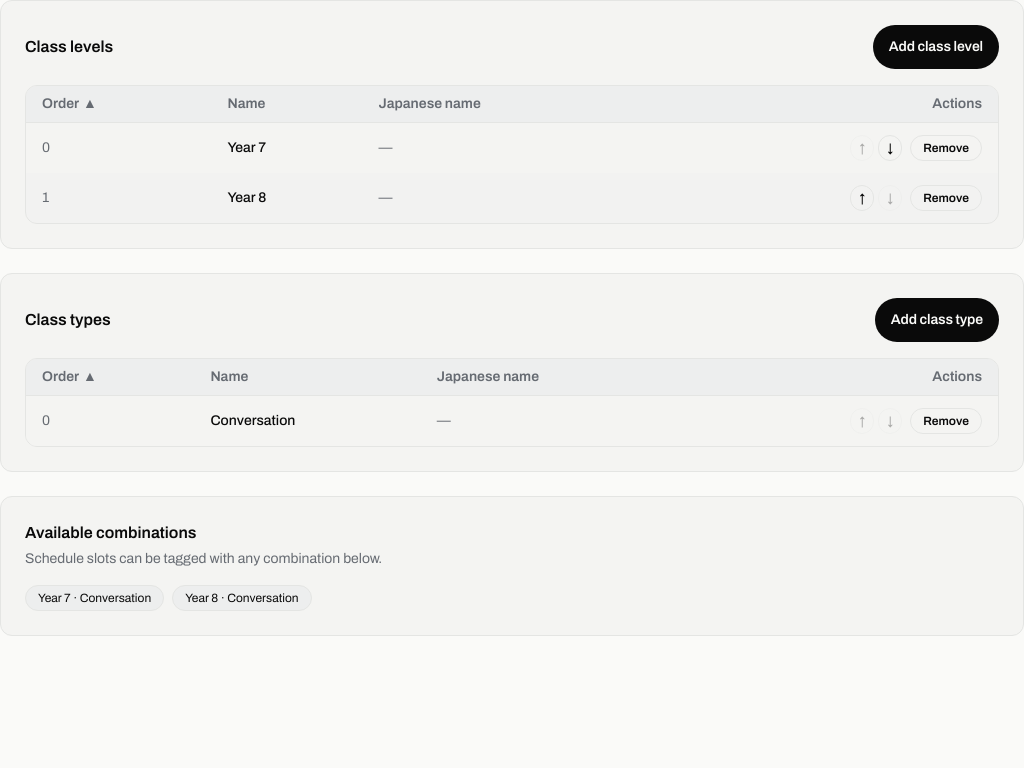
it: SchoolTaxonomyManager › clicking the Name column header toggles sort direction
Expected: the text "Year 7" is shown, [211,122,363,173]
Expected: the elements with test id "taxonomy-row-label-lvl" read "Year 7", "Year 8", in this order, [211,122,363,173]; [211,173,363,223]
Click the button "Name" below "Class levels" at (246, 104), box [227,94,265,114]
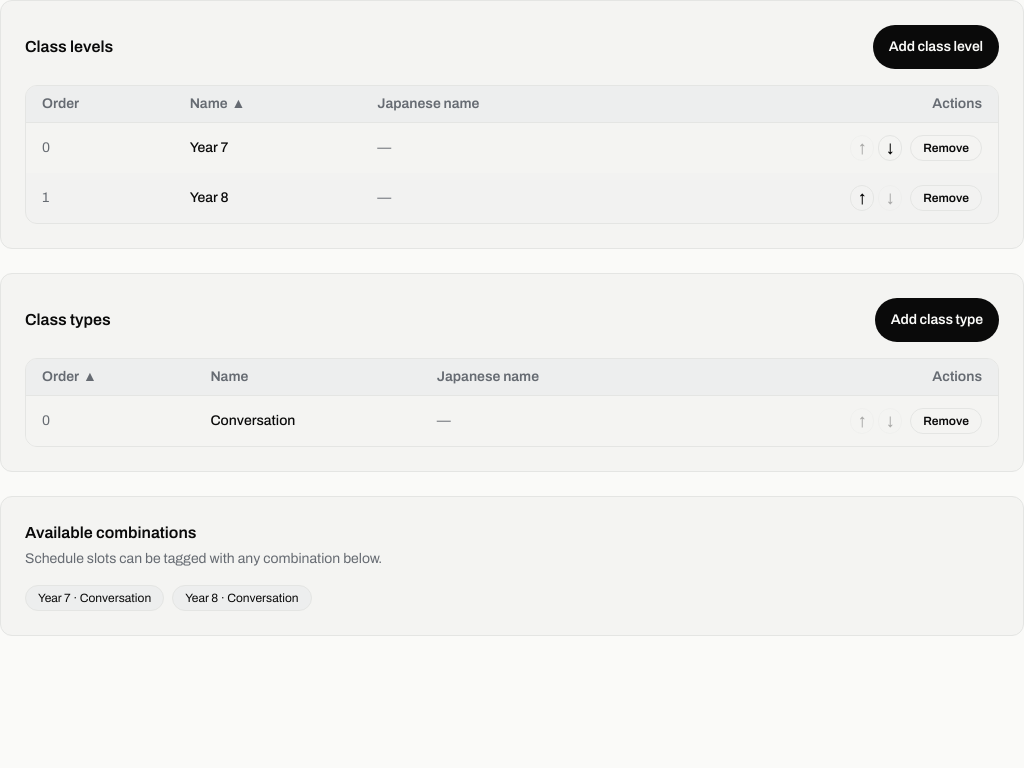
Expected: the elements with test id "taxonomy-row-label-lvl" read "Year 7", "Year 8", in this order, [174,122,361,173]; [174,173,361,223]
Click the button "Name ▲" at (218, 104), box [190,94,245,114]
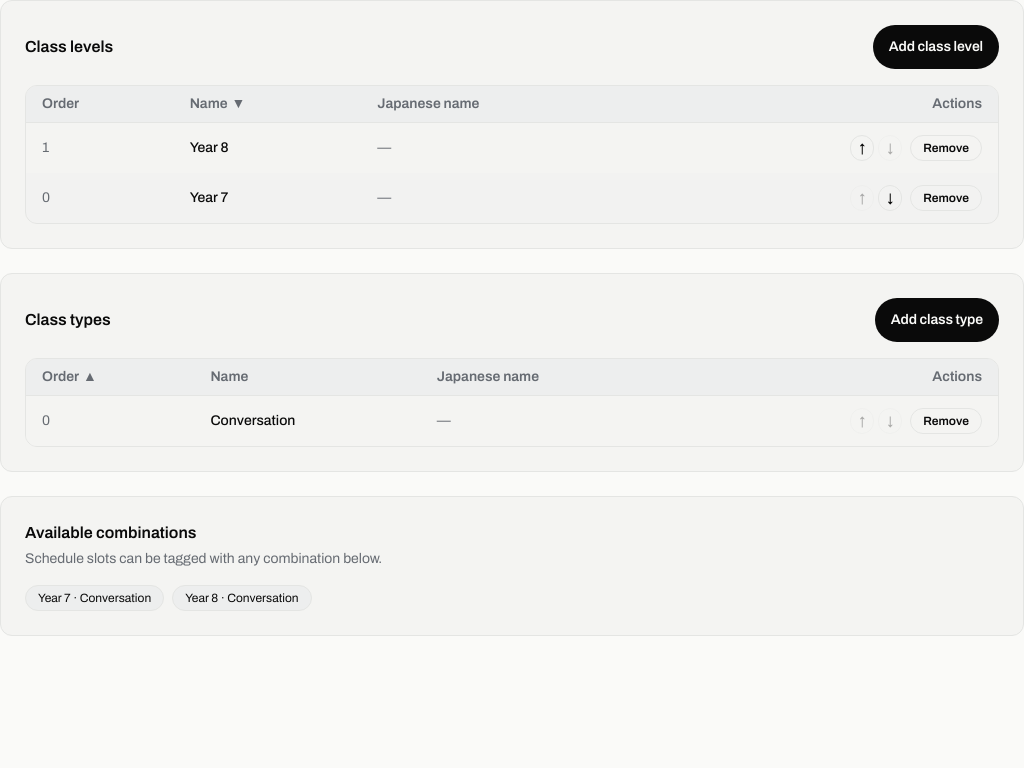
Expected: the elements with test id "taxonomy-row-label-lvl" read "Year 8", "Year 7", in this order, [174,122,361,173]; [174,173,361,223]
